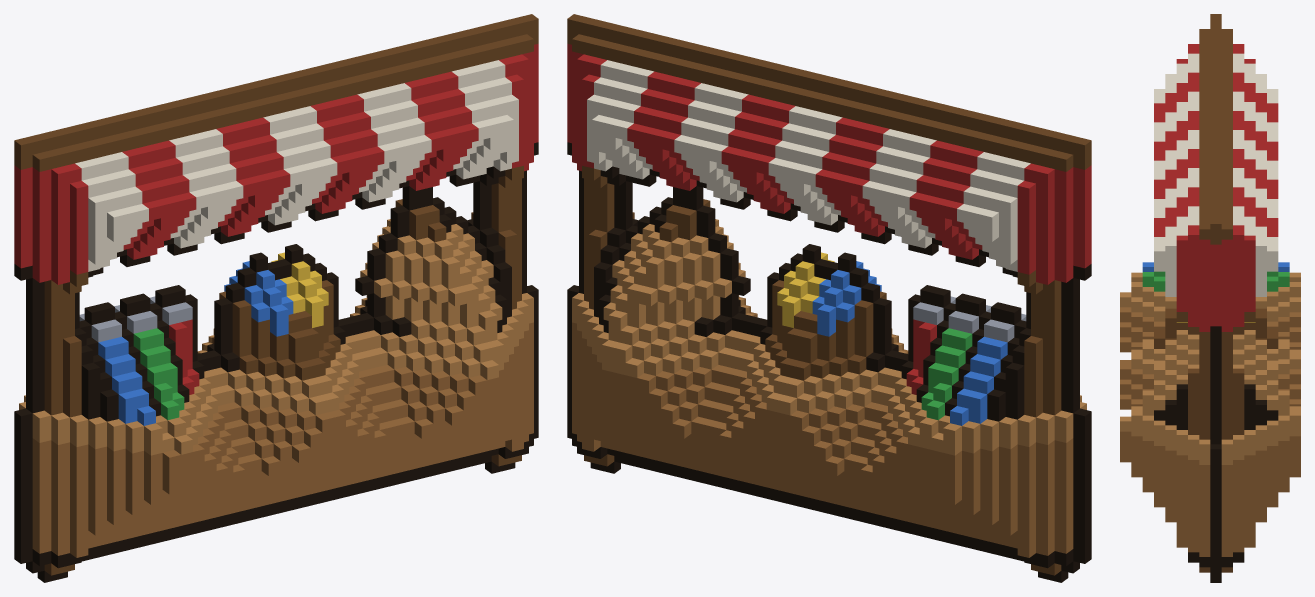
File: market_stall.glb
3 views of the same model, side by side, from view 1: azimuth 30°, elevation 25°; view 2: azimuth 150°, elevation 25°; view 3: azimuth 270°, elevation 25° (orthographic). The views are drawn at different scales.
Parts seen in each view (by area): view 1: f0; view 2: f0; view 3: f0.
Part boxes in pixels (x1,y1,x2,y2): f0: (14,14,538,582); f0: (567,14,1091,582); f0: (1120,14,1300,582).
Size of the model in its own units: 2.75 by 2.25 by 1.
